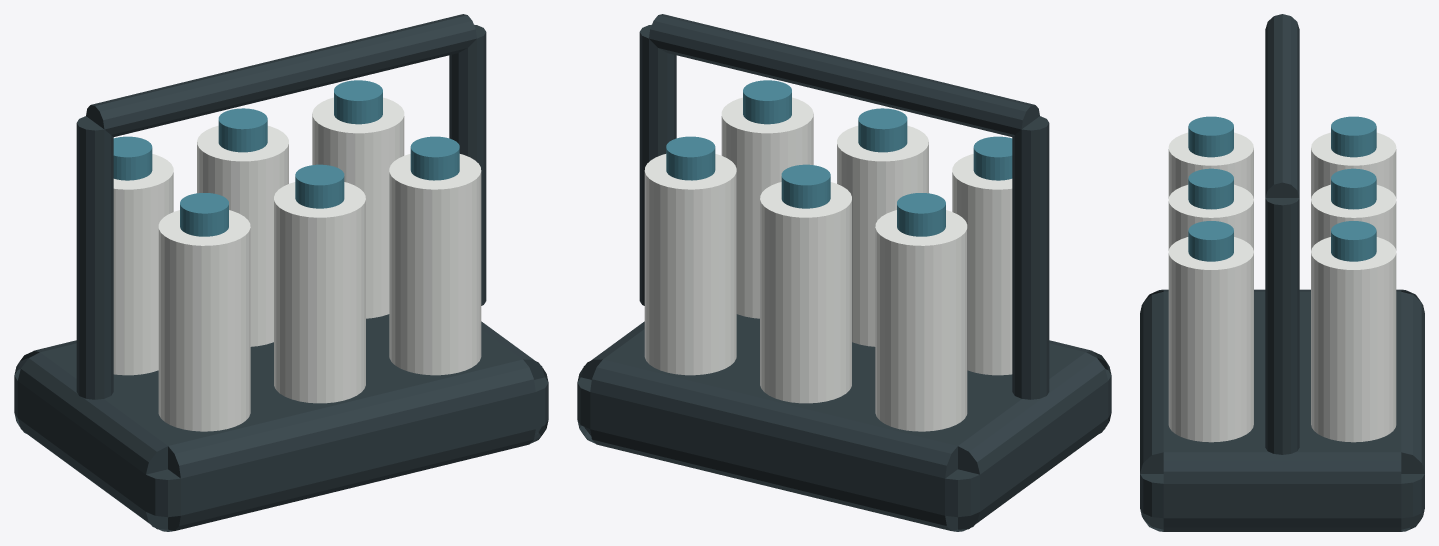
File: basketball-club-and-street-courts-bottle-carrier-b2bcda76__28561.glb
The picture shows the model from 3 angles, left to right: view 1: azimuth 30°, elevation 25°; view 2: azimuth 150°, elevation 25°; view 3: azimuth 270°, elevation 25°; orthographic projection. The views are drawn at different scales.
Visible parts, largest first — view 1: bottle-carrier; view 2: bottle-carrier; view 3: bottle-carrier.
Part boxes in pixels (x1,y1,x2,y2): bottle-carrier: (14,14,548,531); bottle-carrier: (577,14,1111,531); bottle-carrier: (1140,14,1424,531).
Size of the model in its own units: 0.456 by 0.408 by 0.3.
